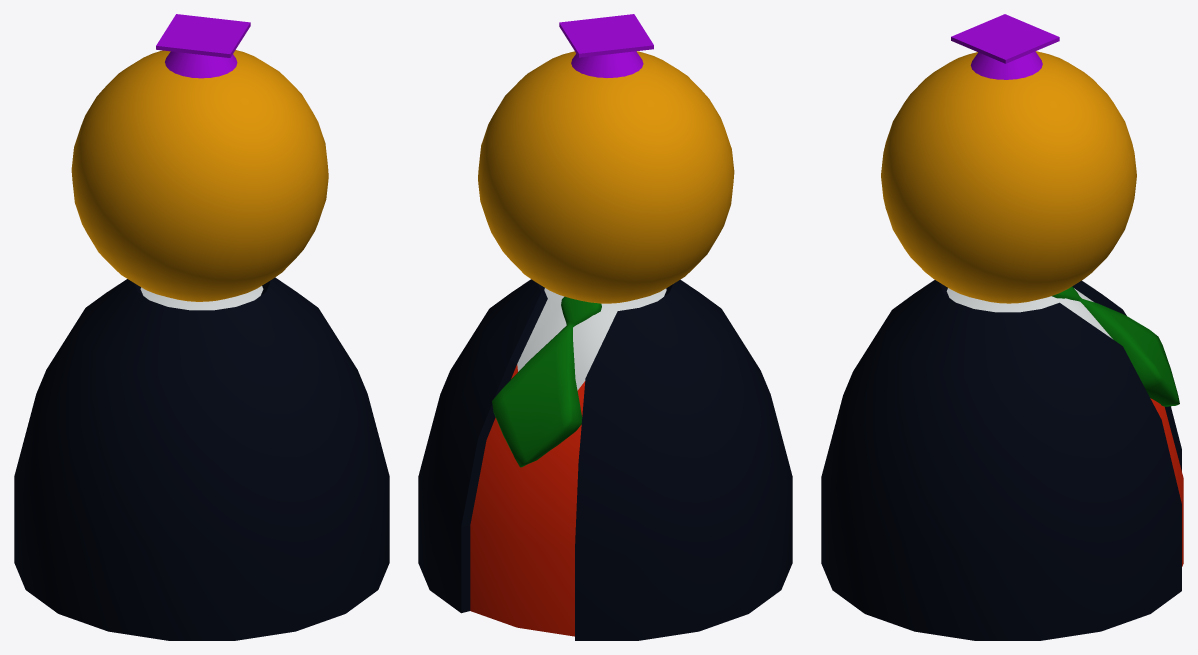
The model's file is ppack_ppack.fbx.
3 renders of one model, left to right at view 1: azimuth 30°, elevation 25°; view 2: azimuth 150°, elevation 25°; view 3: azimuth 270°, elevation 25°, orthographic.
Parts seen in each view (by area): view 1: Sphere011; view 2: Sphere011; view 3: Sphere011.
Boxes of the visible parts, <box> form: Sphere011: <box>14,14,389,640</box>; Sphere011: <box>418,14,792,640</box>; Sphere011: <box>821,14,1183,640</box>.
Size of the model in its own units: 45.56 by 72.04 by 44.96.
